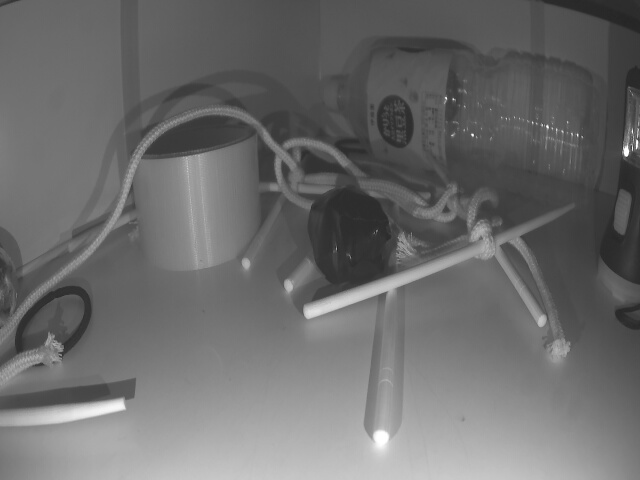Dead: (307, 185, 396, 294)
